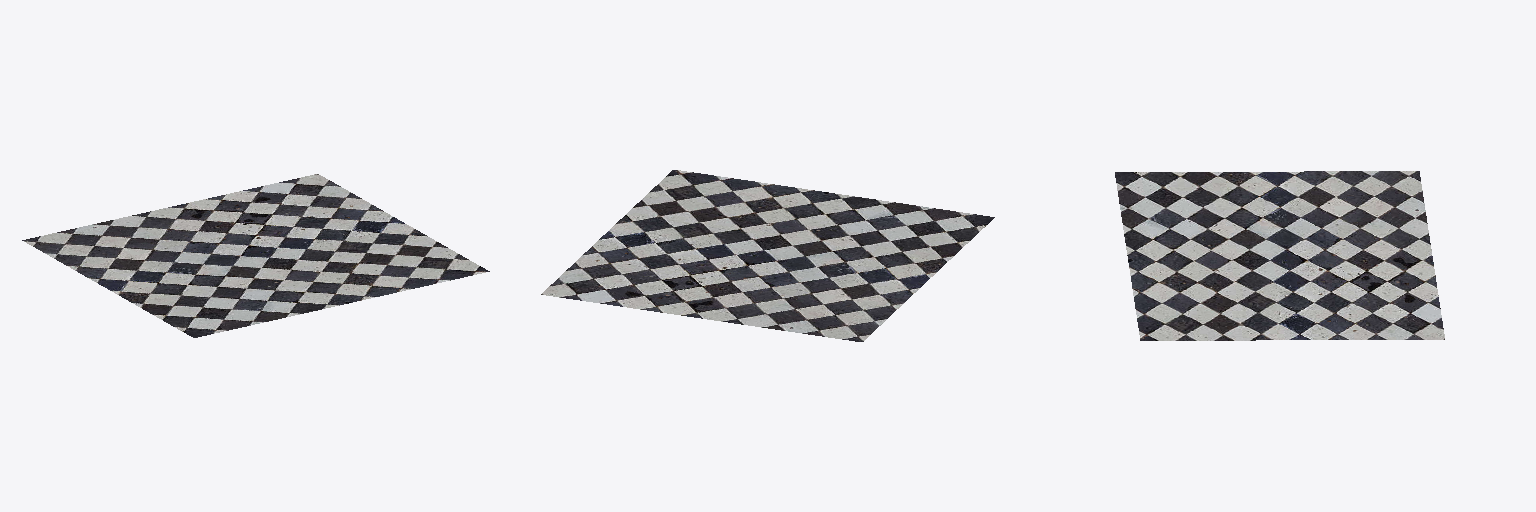
3 renders of one model, left to right at view 1: azimuth 30°, elevation 25°; view 2: azimuth 150°, elevation 25°; view 3: azimuth 270°, elevation 25°, orthographic.
Visible parts, largest first — view 1: Plane; view 2: Plane; view 3: Plane.
Boxes of the visible parts, x1,y1,x2,y2 form: Plane: [22, 174, 489, 337]; Plane: [541, 170, 994, 341]; Plane: [1115, 171, 1444, 340].
Bounding box in the file's own units: 24.88 × 1.95 × 21.69.
1 materials, 1 textured.